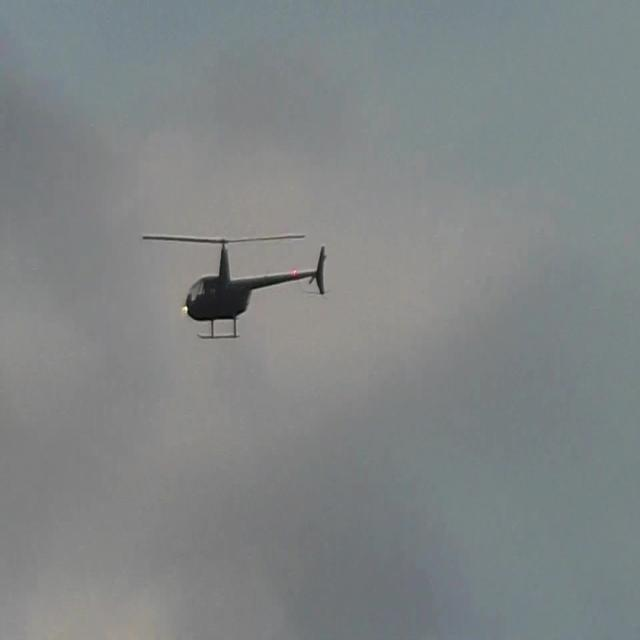CIV_HELO: (184, 239, 328, 340)
